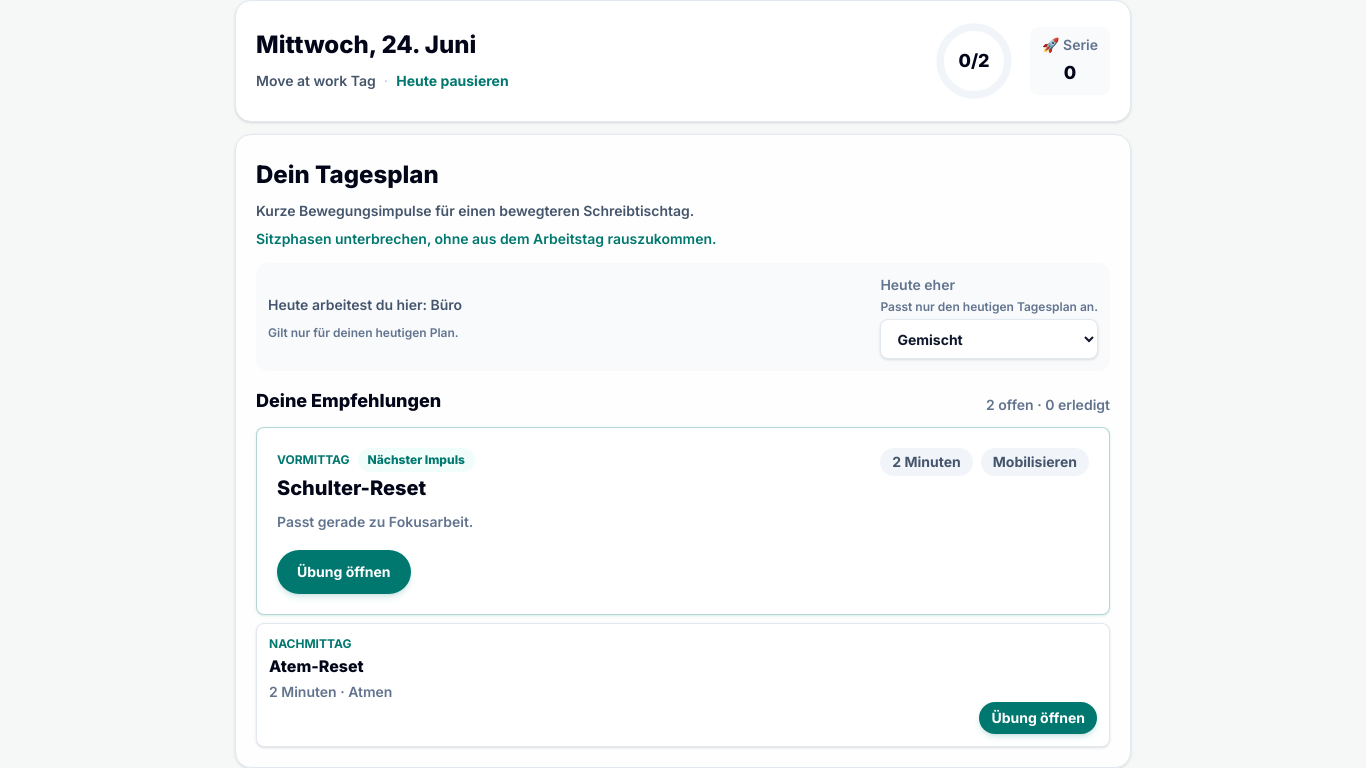
TodayScreen › opens replacement from exercise details only
This screenshot has width=1366, height=768.
Click the button "Übung öffnen" below "Passt gerade zu Fokusarbeit.".
click(344, 572)  # box [277,550,411,594]
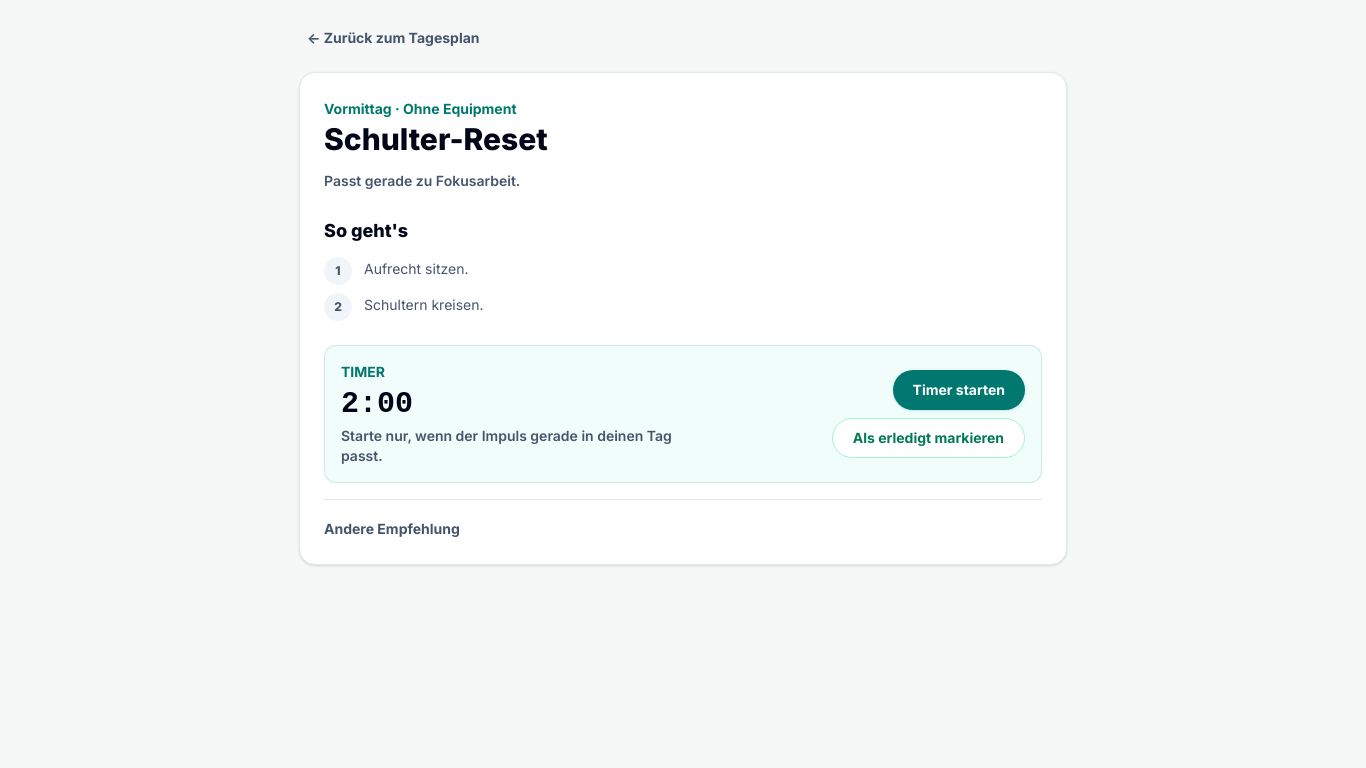
Click the button "Andere Empfehlung".
click(392, 529)  # box [324,519,460,539]
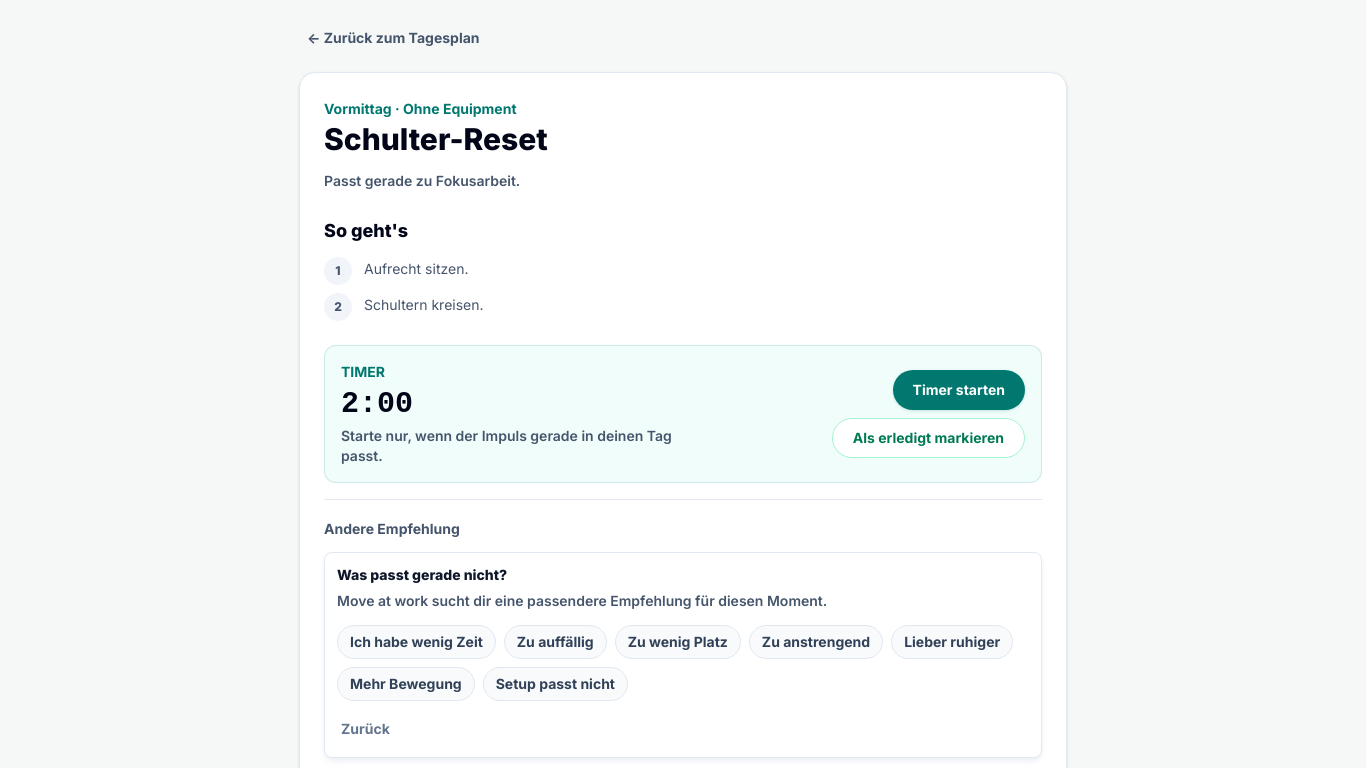
expect the text "So geht" is shown: met, box [324,220,408,241]
expect the text "Was passt gerade nicht?" is shown: met, box [337,566,507,583]
Click the button "← Zurück zum Tagesplan".
click(393, 38)  # box [299,20,488,56]
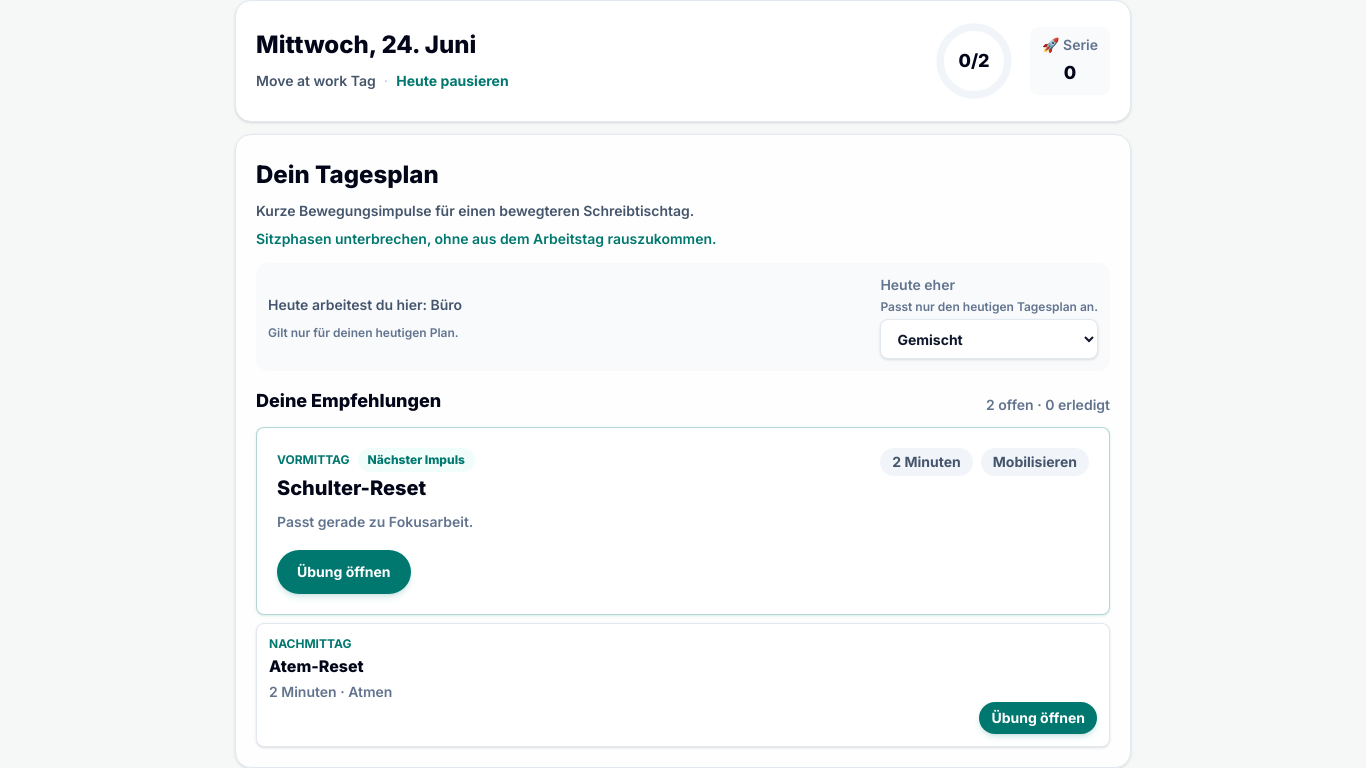
expect the text "Was passt gerade nicht?" is gone: met
